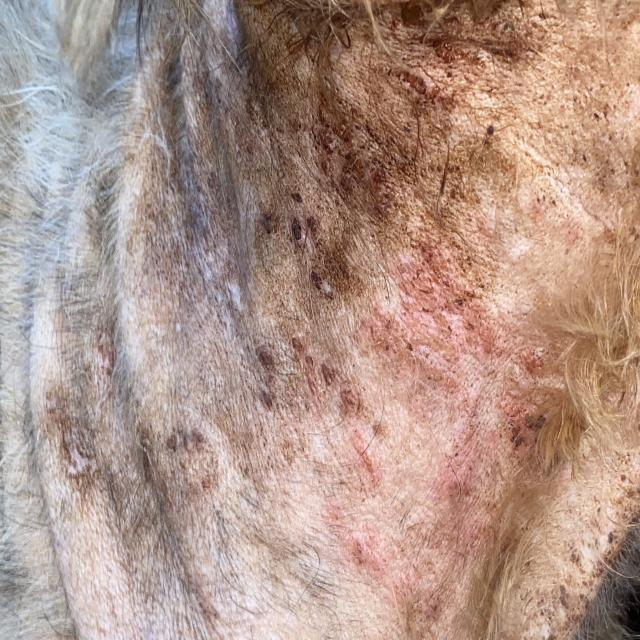demodicosis: (214, 19, 549, 370), (21, 250, 192, 523)
